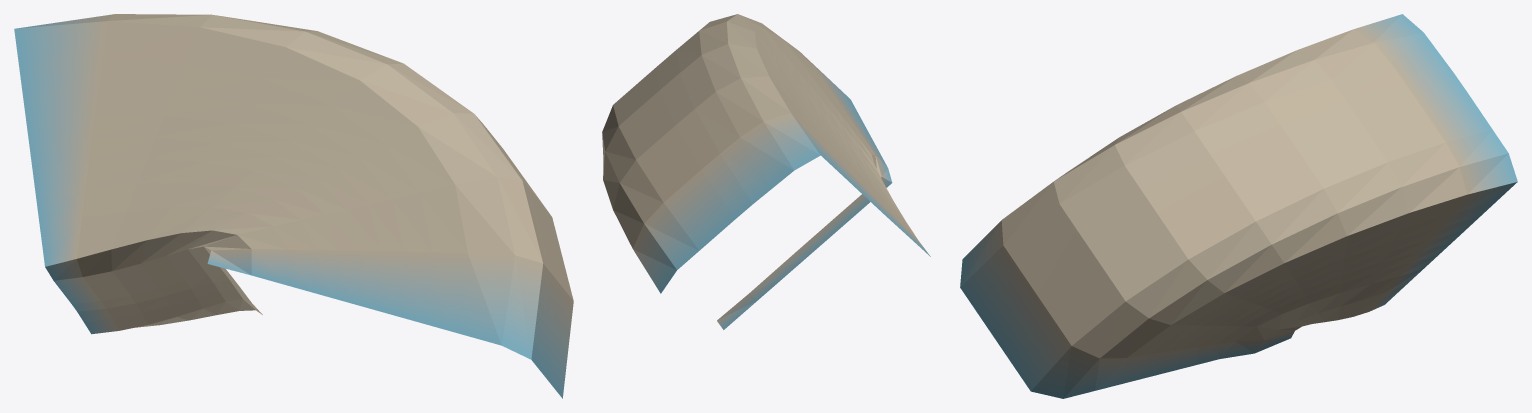
The model's file is combat-elbow-12-0.glb.
The picture shows the model from 3 angles, left to right: view 1: azimuth 30°, elevation 25°; view 2: azimuth 150°, elevation 25°; view 3: azimuth 270°, elevation 25°; orthographic projection. The views are drawn at different scales.
Parts seen in each view (by area): view 1: world; view 2: world; view 3: world.
Boxes of the visible parts, box(x1,y1,x2,y2) form: world: box(14, 14, 573, 398); world: box(602, 14, 930, 329); world: box(960, 14, 1517, 398).
Size of the model in its own units: 134 by 99.54 by 182.
